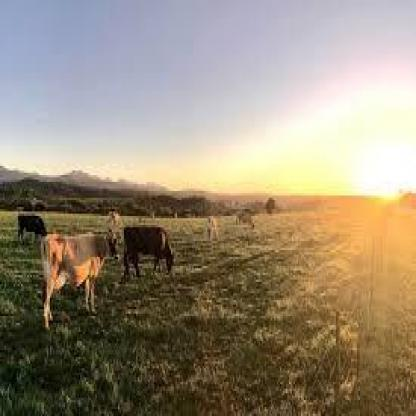cow: (40, 227, 120, 330), (123, 226, 175, 281), (17, 215, 47, 244)
